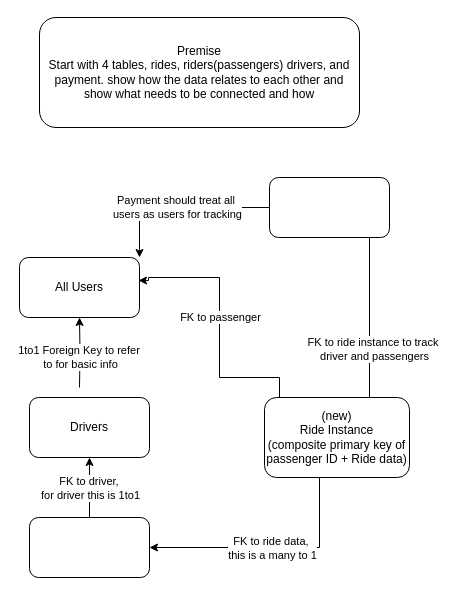
The diagram is 458 pixels wide and 595 high, and some of its shapes have lost their labels. The centre of each missing label's shape, as x and y in pixels:
"Payment" goes at pixel 329 207.
"Ride data" goes at pixel 89 547.
